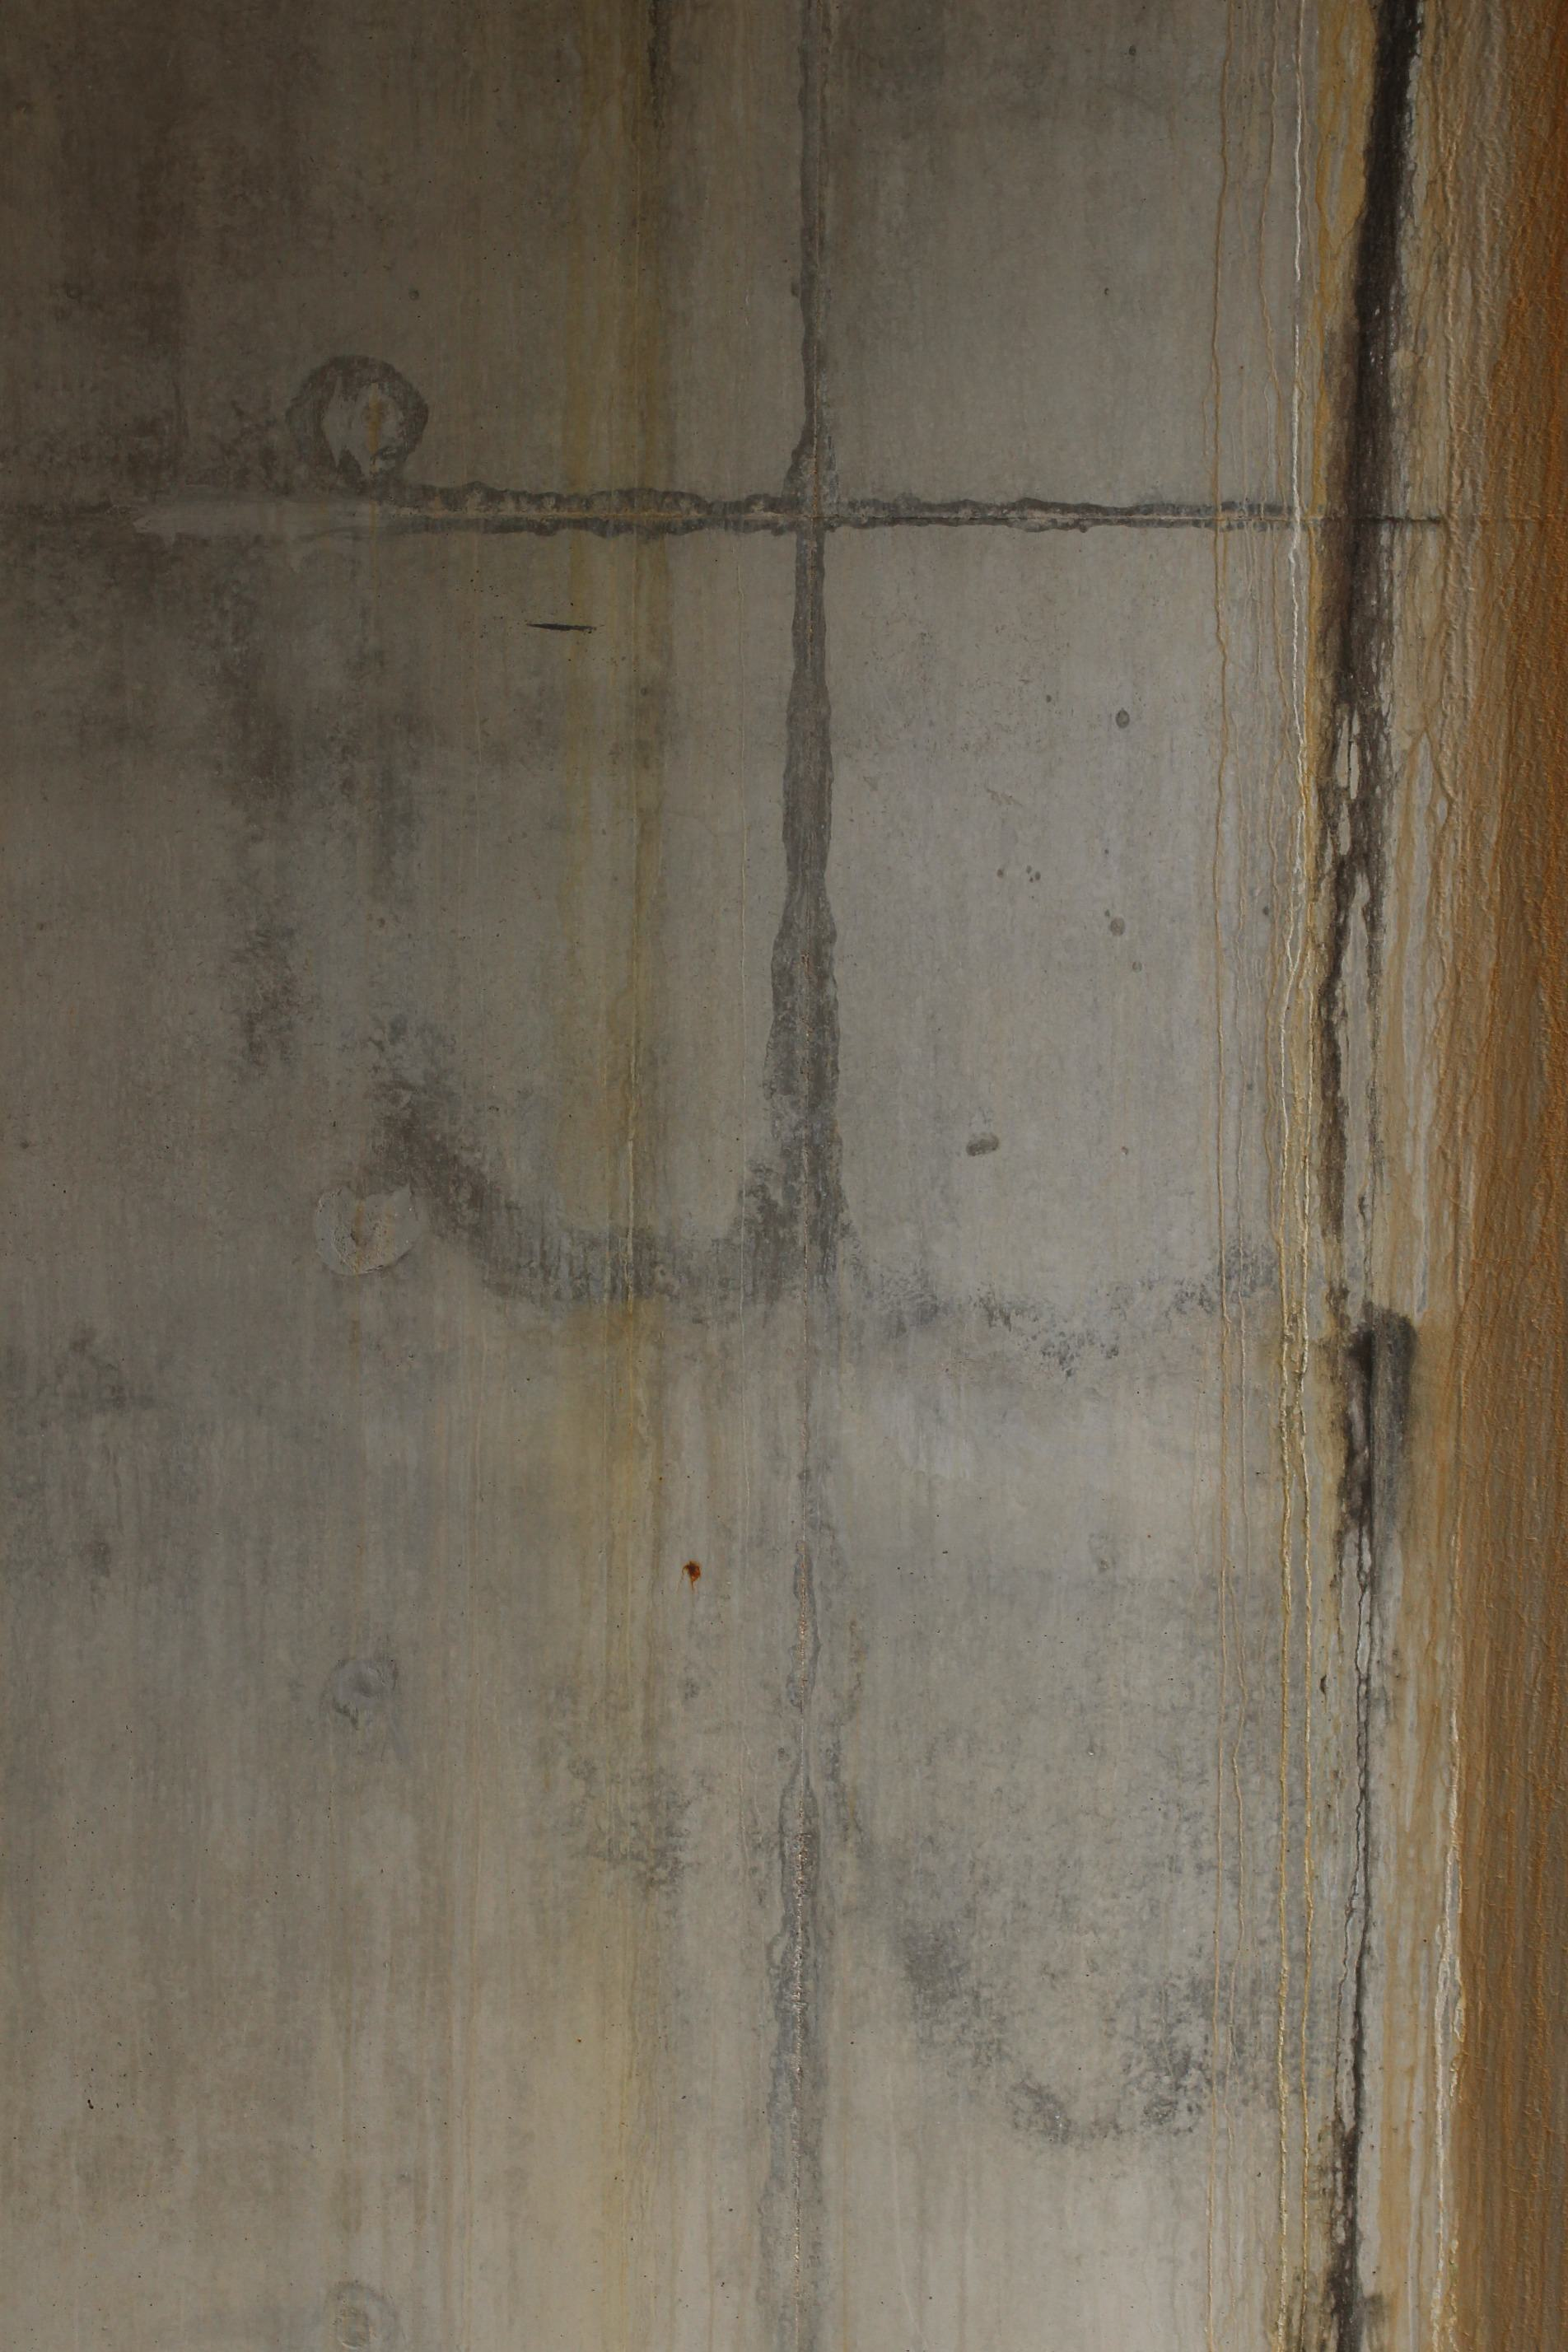Corrosion: (1284, 0, 1568, 2352)
Spalling: (311, 1179, 420, 1277)
